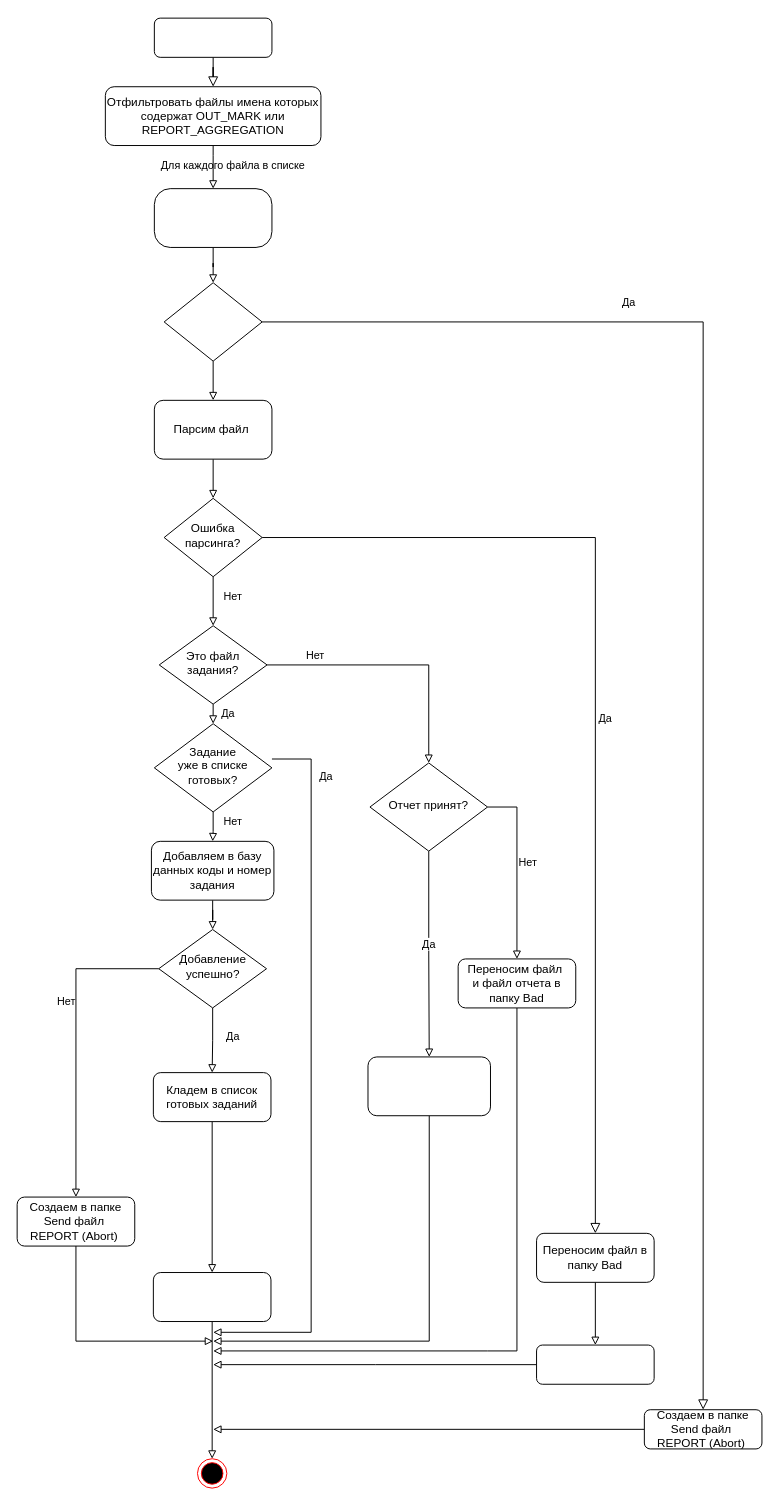
The diagram is 779 pixels wide and 1505 high, and some of its shapes have lost their labels. The shapes that lost their labels are listed below. From the top down, each one's centre as x and y in pixels, then its label:
At (x=212, y=37): "Получить список файлов в папке Recieve".
At (x=212, y=217): "Открываем файл для чтения".
At (x=212, y=321): "Ошибка открытия файла?".
At (x=428, y=1086): "Переносим файл и файл отчета в папку Archive".
At (x=211, y=1297): "Создаем в папке Send файл REPORT (OK)".
At (x=595, y=1364): "Создаем в папке Send файл REPORT (Error)".
